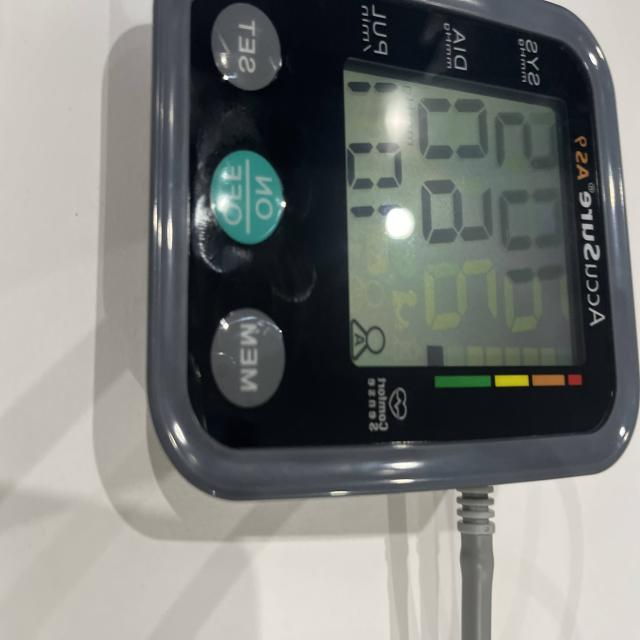bp: (144, 0, 640, 505)
